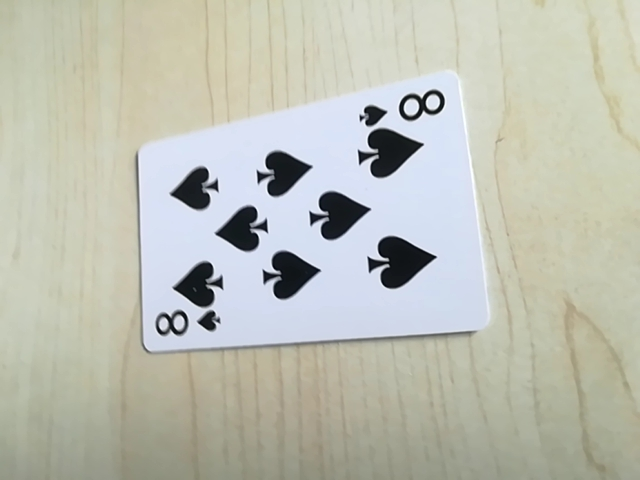ht 8: (355, 85, 454, 129), (149, 303, 226, 345)
